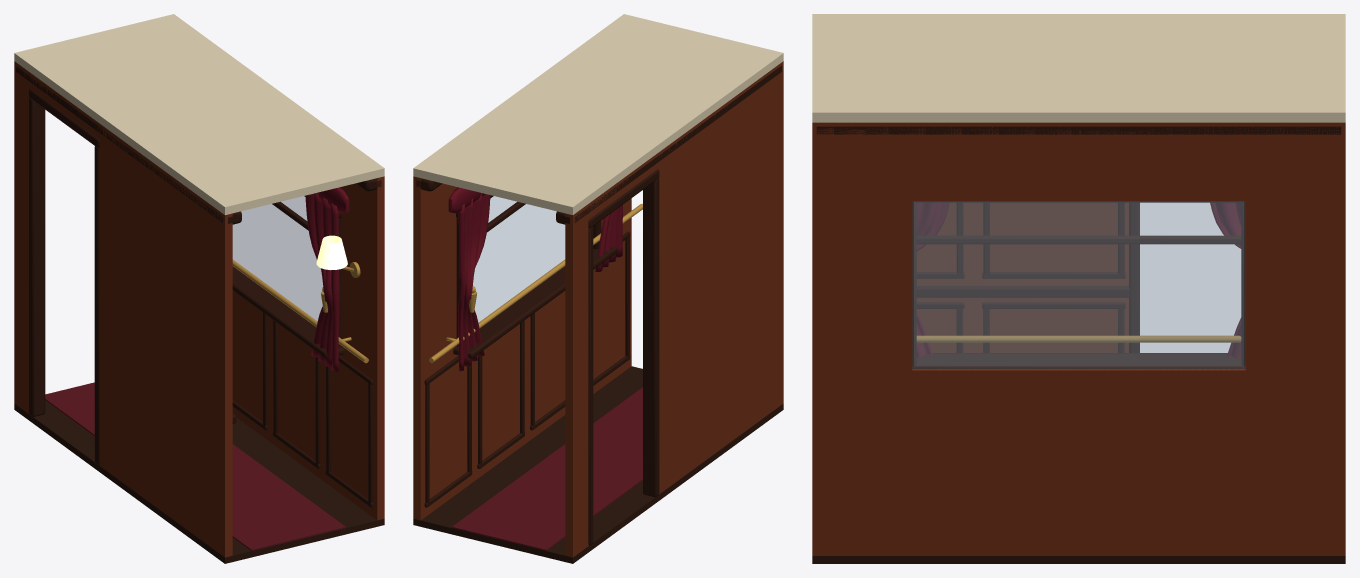
File: corridor.glb
The picture shows the model from 3 angles, left to right: view 1: azimuth 30°, elevation 25°; view 2: azimuth 150°, elevation 25°; view 3: azimuth 270°, elevation 25°; orthographic projection. The views are drawn at different scales.
Parts seen in each view (by area): view 1: corridor, corridor_glass; view 2: corridor, corridor_glass; view 3: corridor, corridor_glass.
Boxes of the visible parts, x1,y1,x2,y2 form: corridor: [14, 14, 384, 563]; corridor_glass: [233, 196, 322, 320]; corridor: [413, 14, 783, 563]; corridor_glass: [473, 196, 564, 322]; corridor: [812, 14, 1345, 563]; corridor_glass: [912, 201, 1245, 368].
Bounding box in the file's own units: 1.06 × 2.24 × 2.4.
